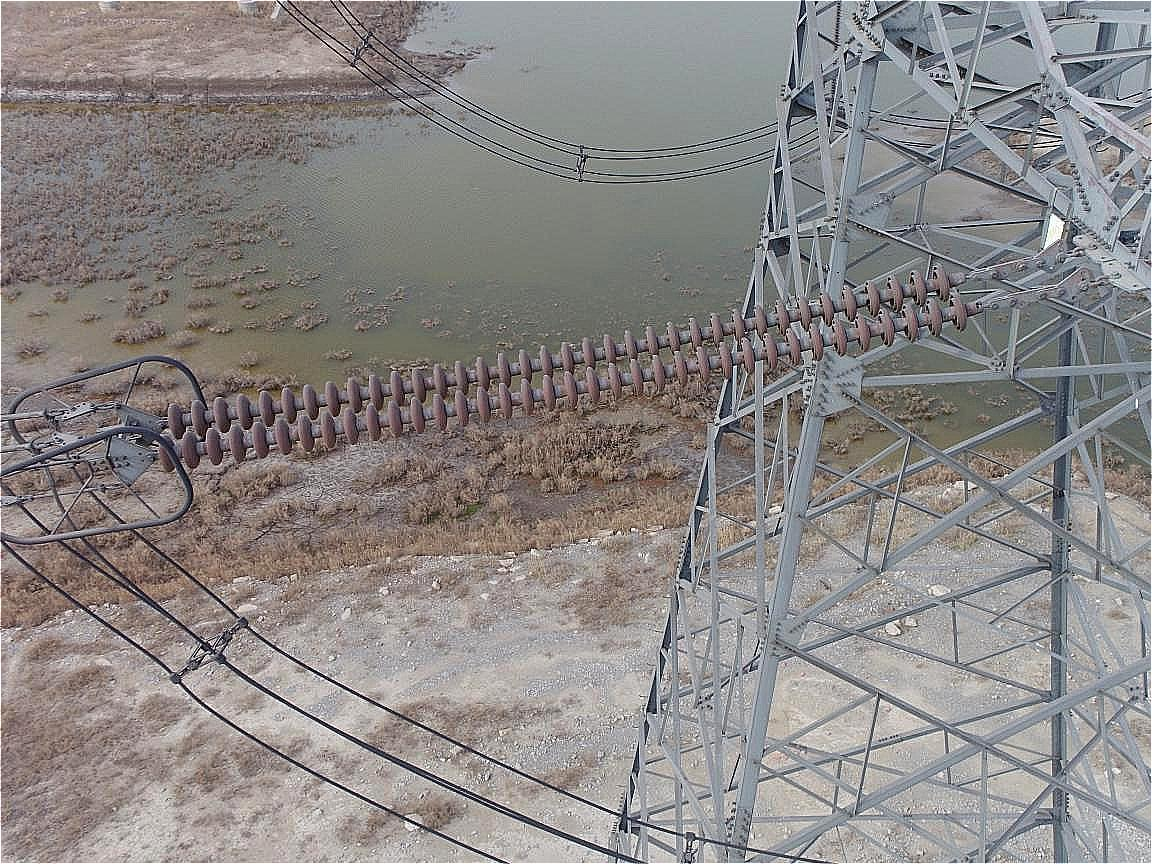insultor1: (156, 263, 971, 473)
